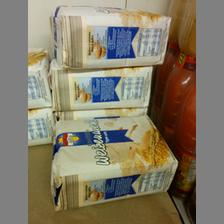Mehl: (50, 113, 178, 211), (49, 4, 171, 68), (48, 60, 152, 108)
